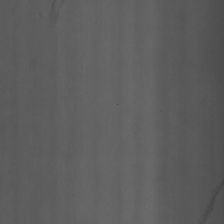inclusion: (198, 176, 224, 222), (43, 0, 66, 39)
